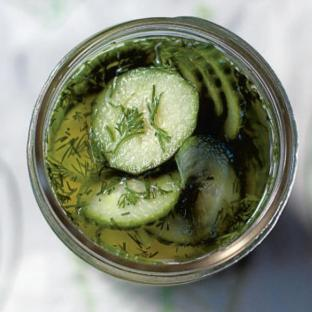Cucumber: (92, 69, 198, 174), (147, 136, 240, 244), (159, 43, 244, 139), (84, 172, 179, 228), (201, 49, 243, 139)
